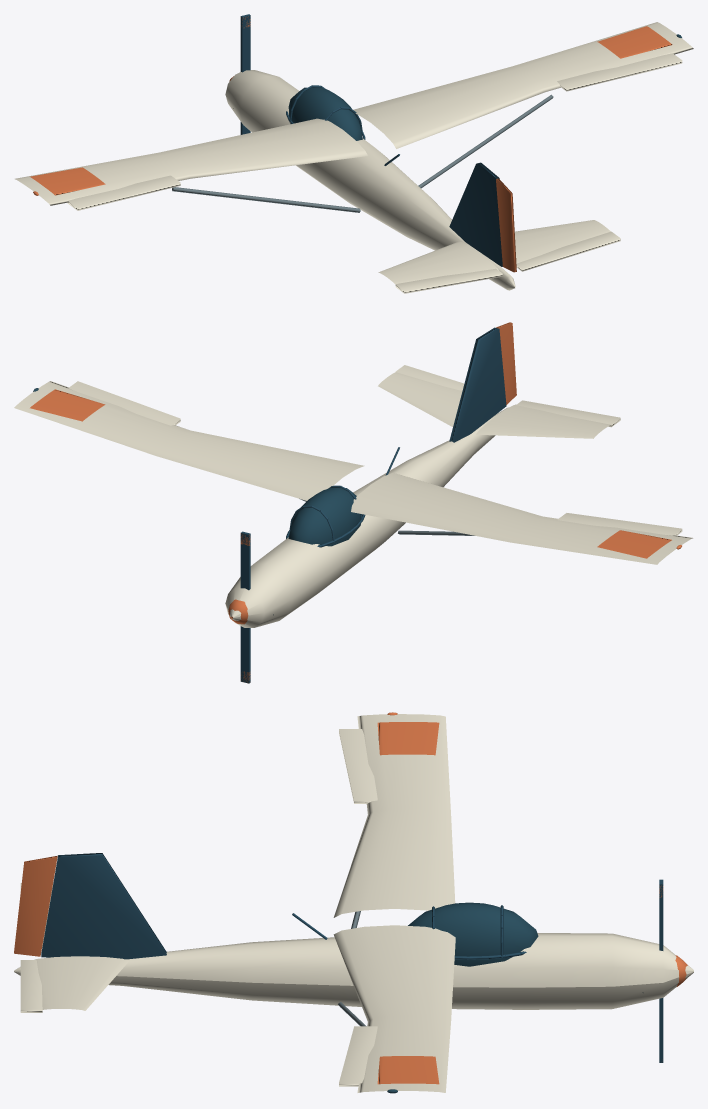
The model's file is player-skylark-mobile-v1.glb.
3 renders of one model, top to bottom at view 1: azimuth 30°, elevation 25°; view 2: azimuth 150°, elevation 25°; view 3: azimuth 270°, elevation 25°, orthographic. The views are drawn at different scales.
Parts seen in each view (by area): view 1: hull, trim, accent, glass, metal, aileron-right, aileron-left, rudder, elevator-right, elevator-left, propeller; view 2: hull, trim, glass, accent, propeller, aileron-right, aileron-left, rudder, elevator-left, elevator-right; view 3: hull, trim, glass, accent, rudder, aileron-left, aileron-right, elevator-right, propeller.
Boxes of the visible parts, x1=… form: hull: x1=15, y1=22, x2=693, y2=290; trim: x1=286, y1=85, x2=502, y2=266; accent: x1=30, y1=26, x2=672, y2=195; glass: x1=288, y1=34, x2=681, y2=140; metal: x1=172, y1=94, x2=553, y2=212; aileron-right: x1=557, y1=53, x2=682, y2=91; aileron-left: x1=67, y1=175, x2=180, y2=210; rudder: x1=496, y1=178, x2=516, y2=272; elevator-right: x1=516, y1=231, x2=620, y2=271; elevator-left: x1=395, y1=268, x2=502, y2=293; propeller: x1=240, y1=14, x2=250, y2=134; hull: x1=14, y1=372, x2=693, y2=627; trim: x1=286, y1=327, x2=506, y2=547; glass: x1=33, y1=388, x2=362, y2=546; accent: x1=30, y1=389, x2=681, y2=624; propeller: x1=240, y1=531, x2=250, y2=683; aileron-right: x1=68, y1=381, x2=180, y2=425; aileron-left: x1=557, y1=513, x2=682, y2=535; rudder: x1=496, y1=322, x2=516, y2=404; elevator-left: x1=516, y1=400, x2=620, y2=427; elevator-right: x1=395, y1=365, x2=464, y2=390; hull: x1=14, y1=714, x2=693, y2=1092; trim: x1=41, y1=853, x2=526, y2=959; glass: x1=387, y1=902, x2=538, y2=1093; accent: x1=377, y1=712, x2=687, y2=1084; rudder: x1=14, y1=855, x2=57, y2=956; aileron-left: x1=339, y1=729, x2=377, y2=803; aileron-right: x1=339, y1=1026, x2=377, y2=1086; elevator-right: x1=20, y1=960, x2=42, y2=1012; propeller: x1=659, y1=879, x2=663, y2=1062.
Bounding box in the file's own units: 11.87 × 3.01 × 9.
